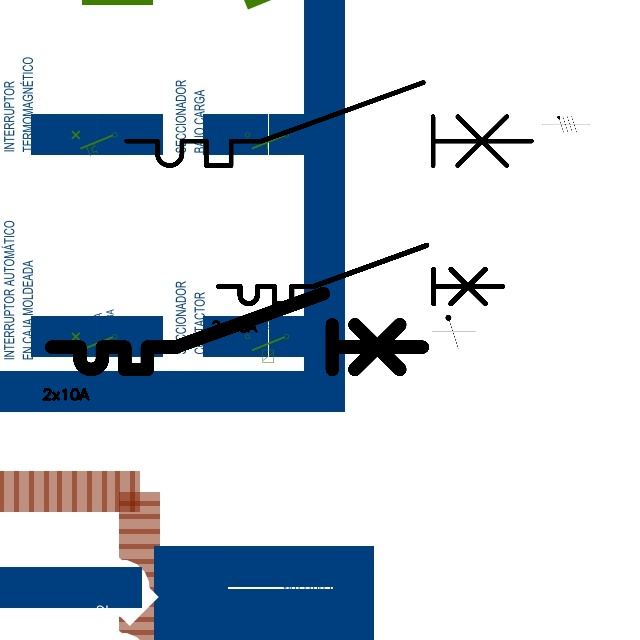interruptor_termomagnetico: (116, 72, 542, 176), (42, 284, 432, 379), (211, 238, 510, 311)
